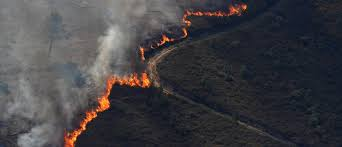fire: (113, 71, 150, 86), (92, 96, 112, 111)
smoke: (51, 8, 135, 67)
